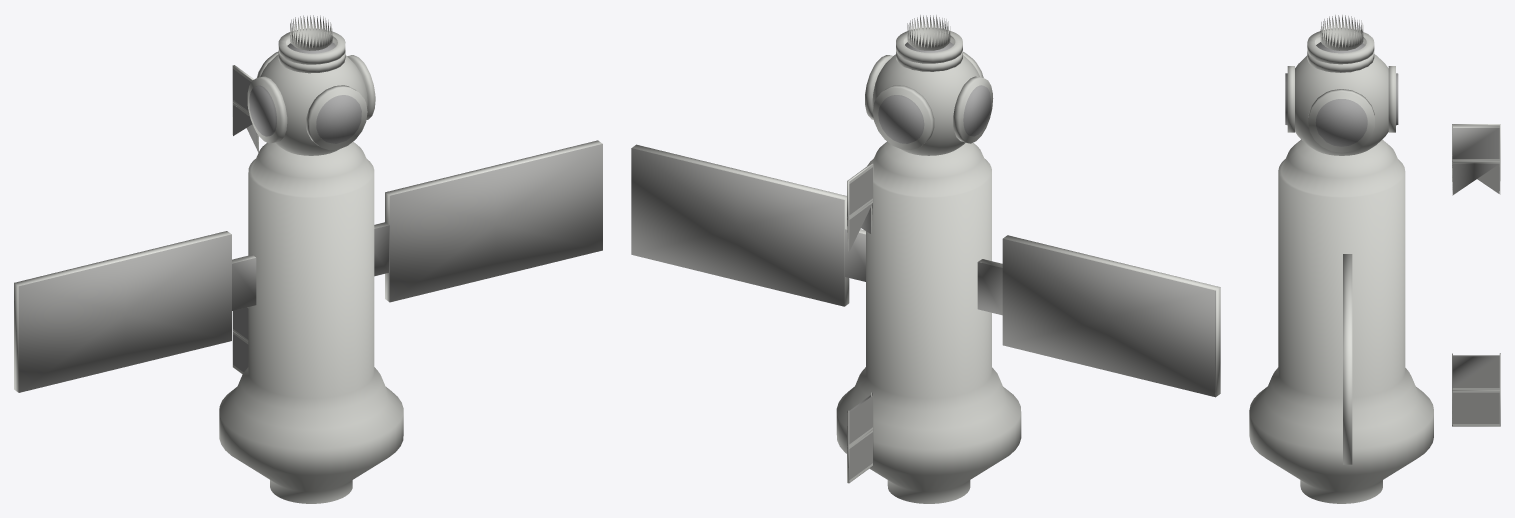
Rendered from iss-zarya.glb.
The picture shows the model from 3 angles, left to right: view 1: azimuth 30°, elevation 25°; view 2: azimuth 150°, elevation 25°; view 3: azimuth 270°, elevation 25°; orthographic projection.
Parts seen in each view (by area): view 1: zarya; view 2: zarya; view 3: zarya.
Part boxes in pixels (left/top/right/bottom): zarya: left=14, top=15, right=602, bottom=503; zarya: left=631, top=15, right=1220, bottom=503; zarya: left=1249, top=15, right=1500, bottom=503.
Size of the model in its own units: 14.62 by 11.08 by 5.44.
1 material, 1 textured.
